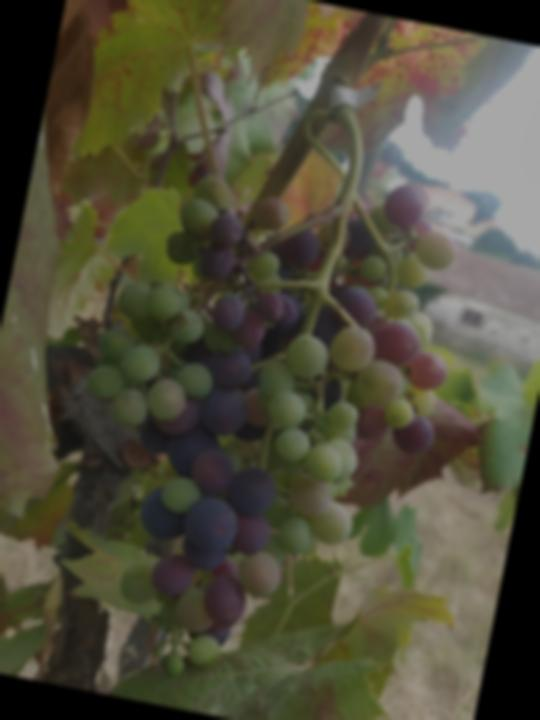grape: (27, 121, 487, 720)
